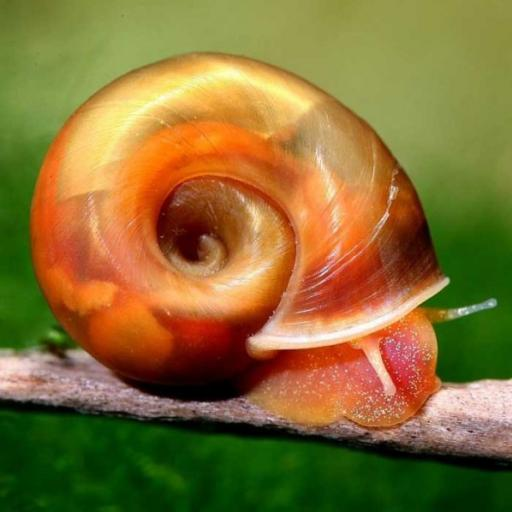Snail: (22, 42, 498, 460)
